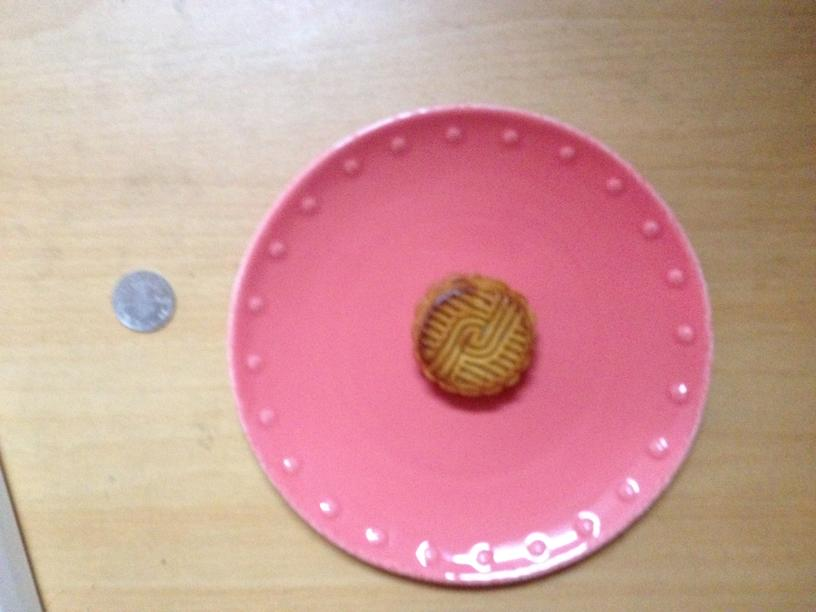coin: (113, 271, 176, 332)
mooncake: (411, 276, 536, 397)
